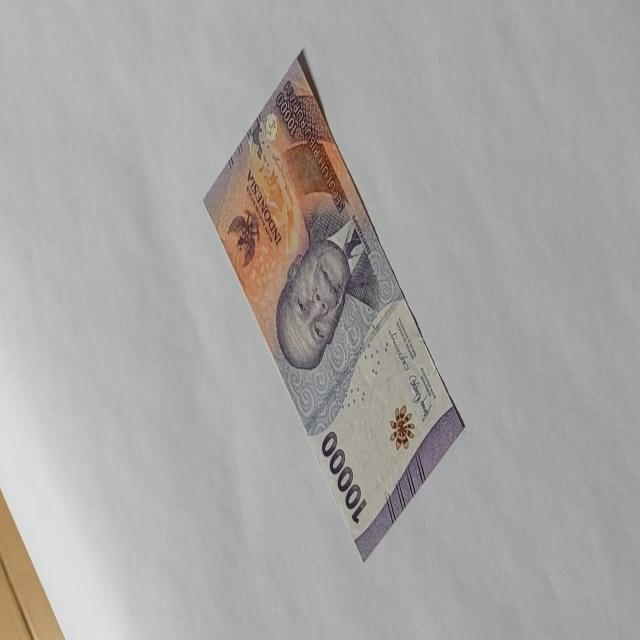Kertas: (202, 47, 466, 563), (321, 428, 367, 526)
